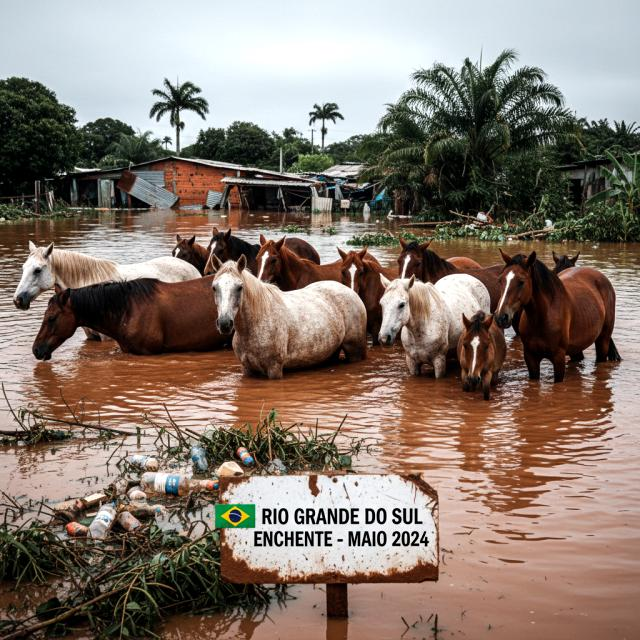horse: (201, 253, 378, 384), (27, 273, 234, 369), (491, 242, 622, 390), (10, 232, 203, 314), (361, 271, 506, 377), (394, 234, 507, 323), (332, 240, 404, 352), (440, 306, 518, 403), (252, 238, 384, 292), (201, 224, 324, 279), (169, 230, 213, 278), (546, 244, 586, 279)
